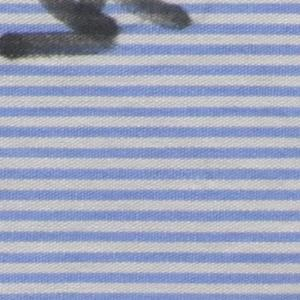Stain: (1, 1, 199, 66)
